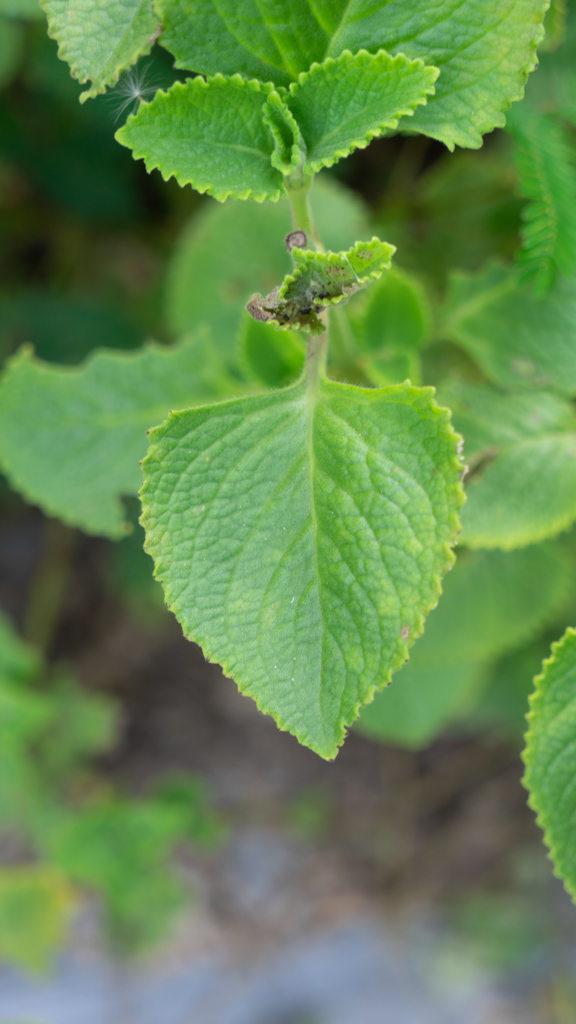Ragged Stunt Disease: (254, 238, 408, 341)
